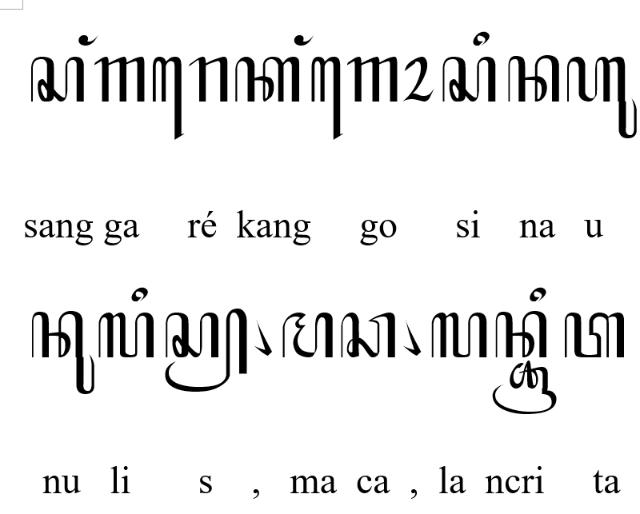-s: (164, 308, 248, 393)
_cr: (492, 360, 558, 416)
c: (339, 313, 395, 360)
e1: (152, 56, 186, 140), (311, 56, 344, 140)
g: (94, 56, 146, 104), (347, 56, 399, 102)
hu: (566, 55, 638, 138)
i: (528, 285, 548, 303), (472, 30, 490, 46), (132, 286, 148, 302)
k: (235, 55, 301, 103)
kom: (253, 318, 273, 356), (403, 317, 421, 355)
l: (99, 311, 155, 359), (431, 311, 487, 359)
m: (282, 312, 334, 358)
n: (496, 311, 548, 359), (508, 56, 560, 102)
ng: (78, 34, 99, 46), (294, 34, 314, 46)
nu: (31, 310, 95, 394)
o: (403, 56, 435, 102)
r: (189, 56, 229, 102)
s: (31, 56, 85, 102), (442, 57, 496, 103)
t: (564, 311, 626, 359)
